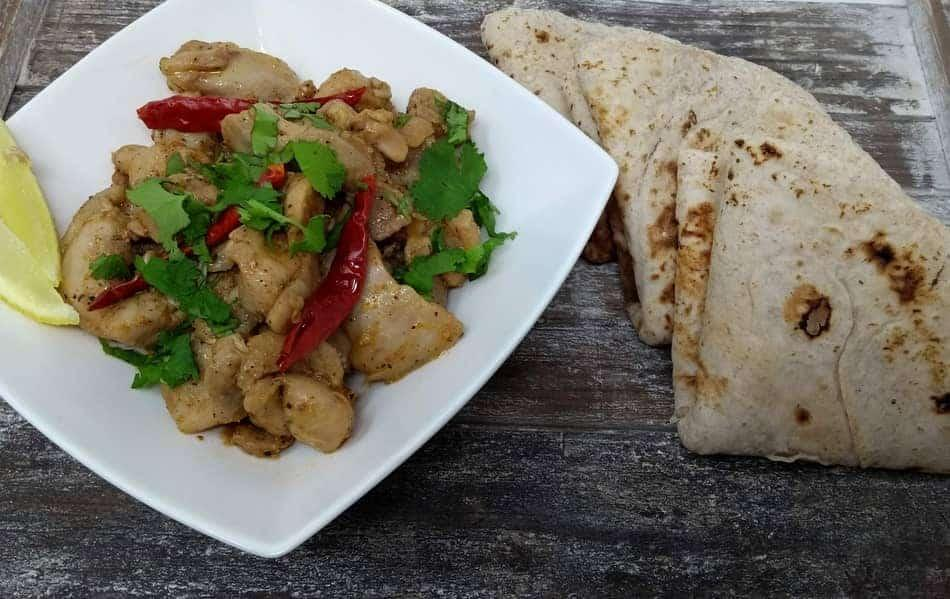chapati: (482, 9, 950, 472)
